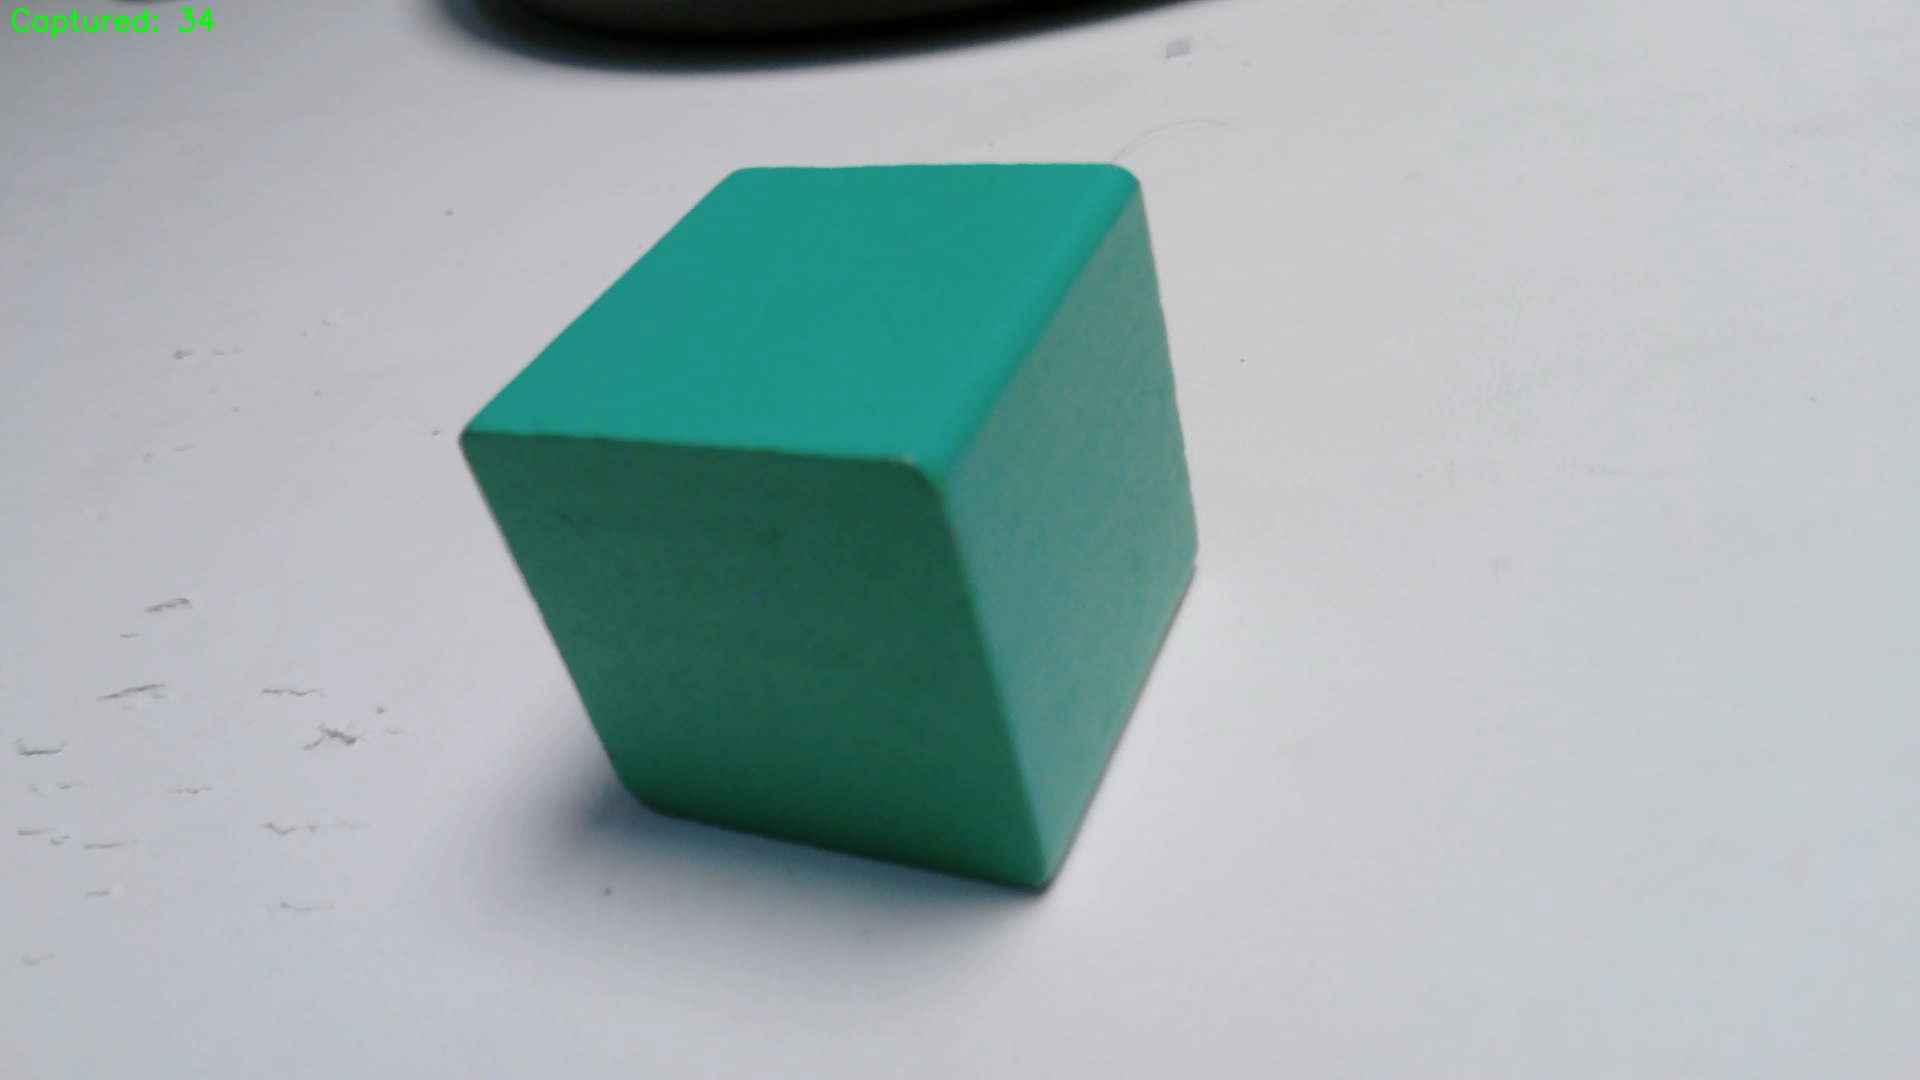green: (452, 164, 1197, 899)
